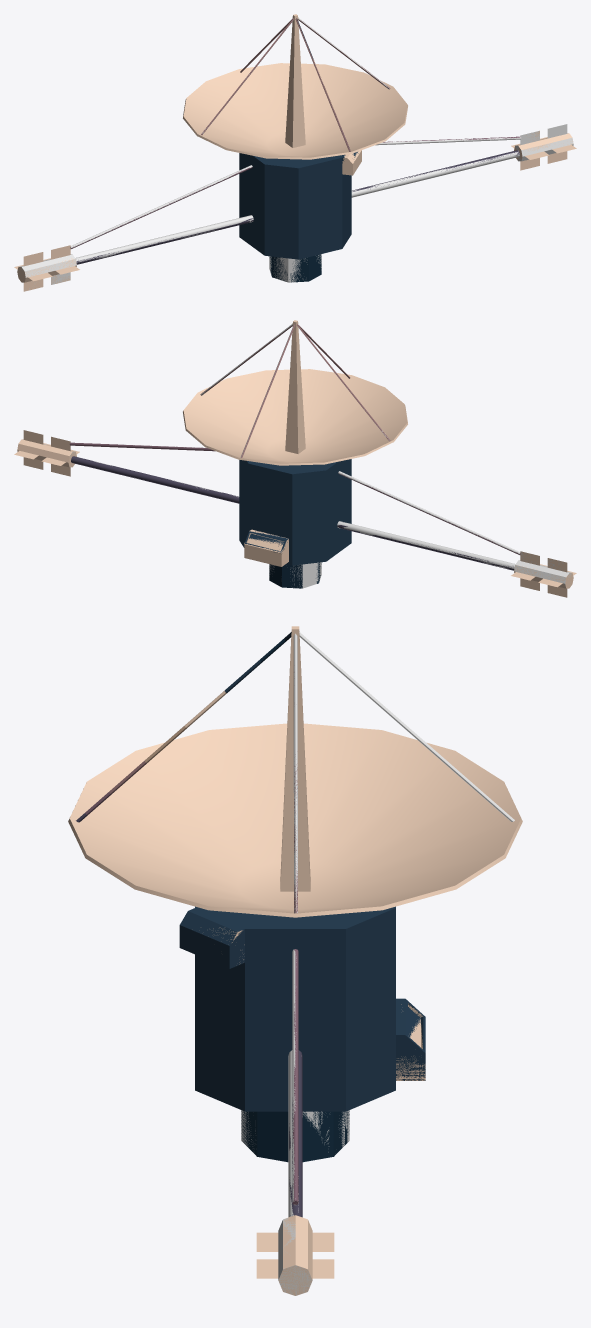
The model's file is pioner.glb.
The picture shows the model from 3 angles, top to bottom: view 1: azimuth 30°, elevation 25°; view 2: azimuth 150°, elevation 25°; view 3: azimuth 270°, elevation 25°; orthographic projection. The views are drawn at different scales.
Visible parts, largest first — view 1: Pioner, Cone.001, Cube.005, BézierCurve.014, BézierCurve.012, Cube.009, Cube.008, Cube.006, Cylinder.001, BézierCurve.013, BézierCurve.015, Cube.013 (+1 smaller); view 2: Pioner, Cone.001, Cube.005, BézierCurve.012, Cube.008, BézierCurve.013, Cylinder.001, Cube.006, Cube.013; view 3: Cone.001, Cube.005, Pioner, Cube.006, BézierCurve.010, BézierCurve.009, BézierCurve.011, Cube.009.
Boxes of the visible parts, box(x1,y1,x2,y2) form: Pioner: box(17, 14, 576, 291); Cone.001: box(183, 63, 407, 159); Cube.005: box(253, 152, 358, 259); BézierCurve.014: box(351, 151, 519, 197); BézierCurve.012: box(75, 215, 253, 263); Cube.009: box(515, 124, 573, 161); Cube.008: box(18, 254, 76, 290); Cube.006: box(292, 14, 305, 147); Cylinder.001: box(269, 254, 321, 282); BézierCurve.013: box(70, 165, 252, 248); BézierCurve.015: box(375, 137, 521, 145); Cube.013: box(14, 245, 79, 281); Pioner: box(14, 321, 573, 597); Cone.001: box(183, 369, 407, 465); Cube.005: box(243, 461, 337, 565); BézierCurve.012: box(337, 521, 515, 568); Cube.008: box(514, 551, 572, 585); BézierCurve.013: box(338, 471, 520, 554); Cylinder.001: box(269, 562, 321, 588); Cube.006: box(285, 320, 298, 453); Cube.013: box(511, 564, 576, 594); Cone.001: box(68, 723, 522, 917); Cube.005: box(179, 906, 425, 1111); Pioner: box(80, 647, 509, 1295); Cube.006: box(281, 626, 309, 867); BézierCurve.010: box(293, 633, 297, 913); BézierCurve.009: box(76, 632, 291, 822); BézierCurve.011: box(299, 632, 514, 821); Cube.009: box(278, 1218, 312, 1295).
Bounding box in the file's own units: 12.61 × 5.64 × 4.53.
1 material, 1 textured.
